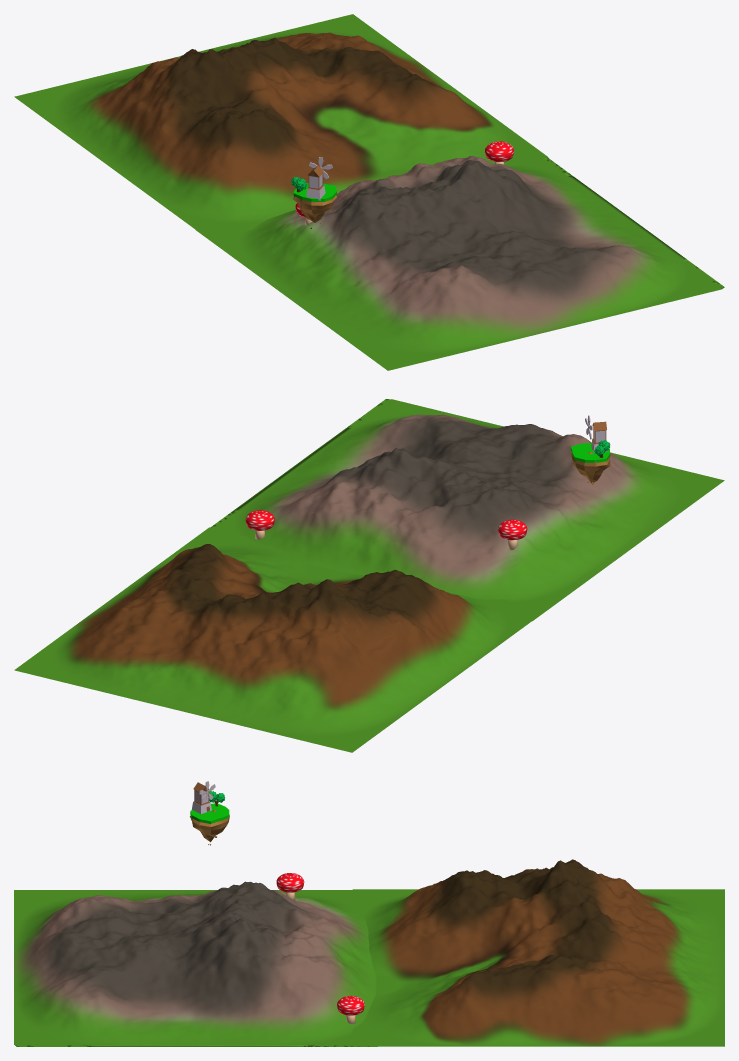
File: TitleStage.obj
3 renders of one model, top to bottom at view 1: azimuth 30°, elevation 25°; view 2: azimuth 150°, elevation 25°; view 3: azimuth 270°, elevation 25°, orthographic. The views are drawn at different scales.
Parts seen in each view (by area): view 1: Landscape.001, Landscape, Island; view 2: Landscape, Landscape.001; view 3: Landscape, Landscape.001, Green_platform, Island, 球.001, 球.
Boxes of the visible parts, left/top/right/bottom form: Landscape.001: left=196, top=155, right=724, bottom=370; Landscape: left=14, top=14, right=548, bottom=239; Island: left=293, top=195, right=336, bottom=228; Landscape: left=14, top=527, right=546, bottom=752; Landscape.001: left=210, top=399, right=724, bottom=620; Landscape: left=352, top=859, right=724, bottom=1046; Landscape.001: left=14, top=881, right=377, bottom=1046; Green_platform: left=190, top=803, right=229, bottom=823; Island: left=190, top=810, right=229, bottom=845; 球.001: left=276, top=873, right=304, bottom=892; 球: left=337, top=995, right=364, bottom=1015.
Size of the model in its own units: 409 by 153 by 782.
Materials: 10 (4 with a texture image).
